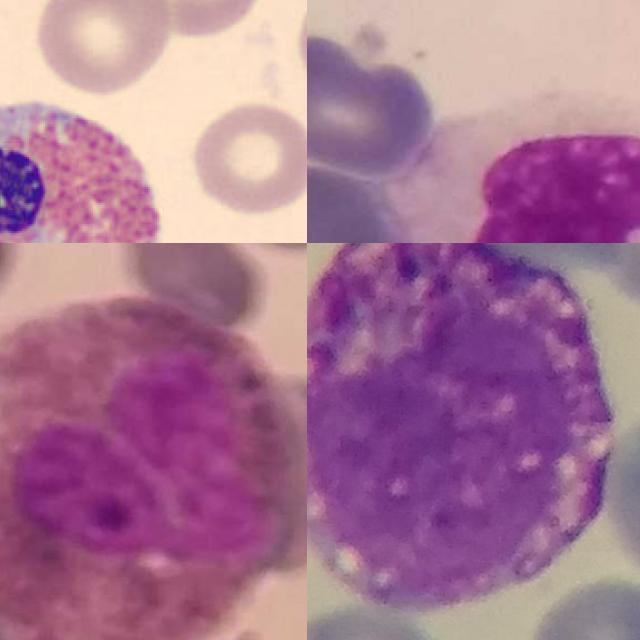Basophil: (307, 243, 618, 610)
Eosinophil: (0, 291, 293, 640), (0, 75, 176, 243)
Monocyte: (402, 94, 640, 243)
RBC: (185, 97, 307, 218), (29, 0, 176, 97), (132, 0, 269, 42), (292, 0, 307, 122)
